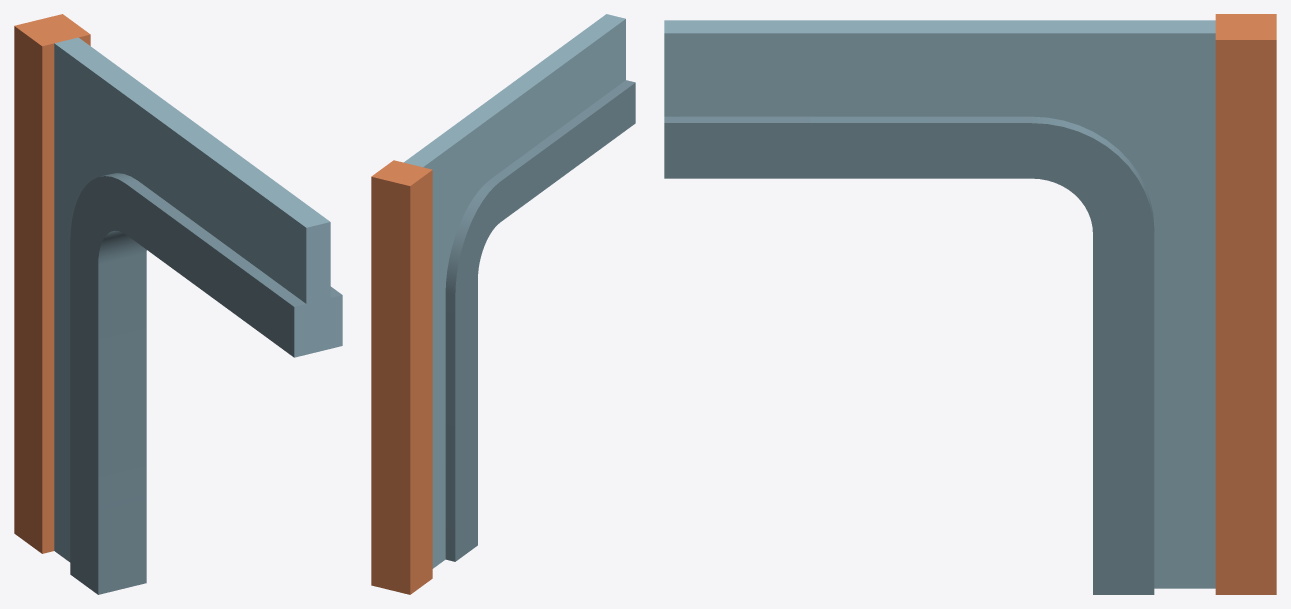
File: wallDoorwaySquareWideCurved.obj
The picture shows the model from 3 angles, left to right: view 1: azimuth 30°, elevation 25°; view 2: azimuth 150°, elevation 25°; view 3: azimuth 270°, elevation 25°; orthographic projection. The views are drawn at different scales.
Visible parts, largest first — view 1: wallDoorwaySquareWideCurved; view 2: wallDoorwaySquareWideCurved; view 3: wallDoorwaySquareWideCurved.
Part boxes in pixels (<box>): wallDoorwaySquareWideCurved: <box>14,14,342,594</box>; wallDoorwaySquareWideCurved: <box>371,14,635,594</box>; wallDoorwaySquareWideCurved: <box>664,14,1276,594</box>.
Bounding box in the file's own units: 0.1 × 1 × 1.
